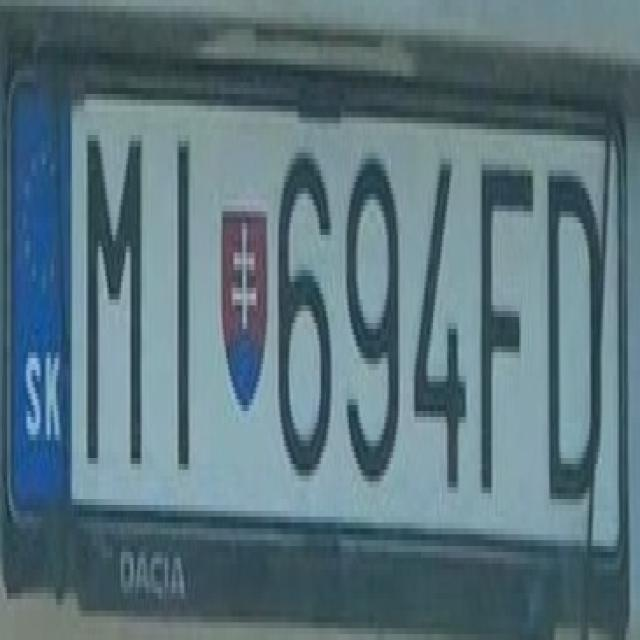1: (149, 106, 198, 464)
4: (403, 135, 468, 488)
6: (268, 135, 335, 482)
9: (338, 129, 405, 482)
D: (535, 135, 605, 499)
F: (469, 135, 536, 499)
M: (77, 106, 149, 470)
